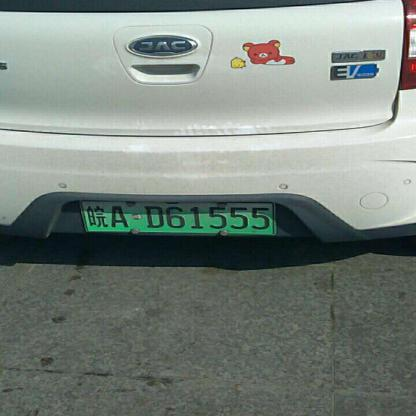lp: (80, 202, 272, 233)
